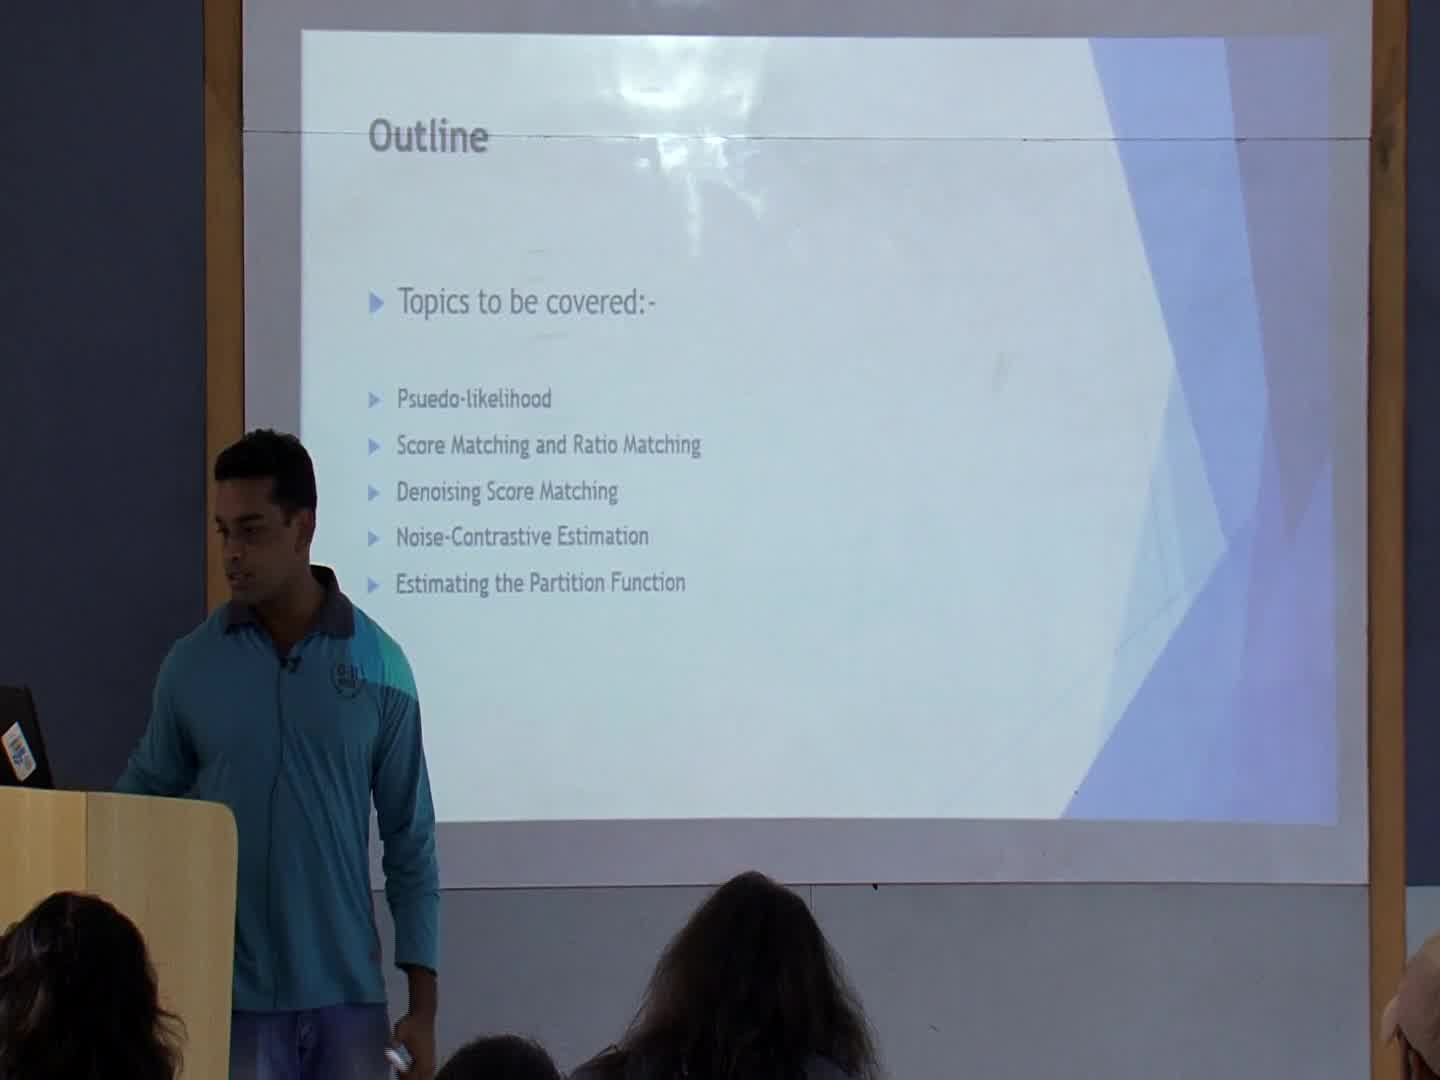slide: (302, 28, 1341, 821)
